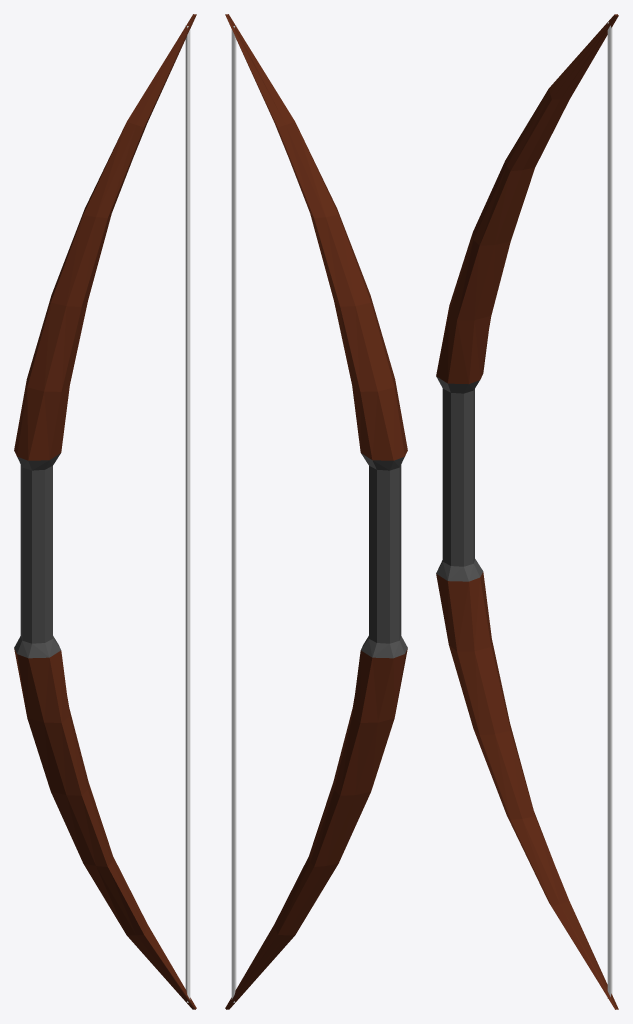
Rendered from bow_01.obj.
The picture shows the model from 3 angles, left to right: view 1: azimuth 30°, elevation 25°; view 2: azimuth 150°, elevation 25°; view 3: azimuth 330°, elevation 25°; orthographic projection.
Parts seen in each view (by area): view 1: Bow_01_Cube.013; view 2: Bow_01_Cube.013; view 3: Bow_01_Cube.013.
Part boxes in pixels (left/top/right/bottom): Bow_01_Cube.013: left=14, top=14, right=196, bottom=1009; Bow_01_Cube.013: left=225, top=14, right=407, bottom=1009; Bow_01_Cube.013: left=436, top=14, right=618, bottom=1009.
Size of the model in its own units: 0.902 by 4.76 by 0.2301.
